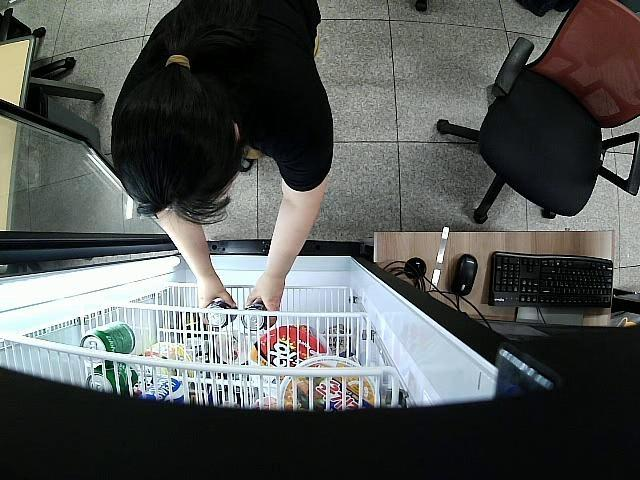14_welchsGrape: (204, 302, 234, 329), (242, 303, 269, 330)
